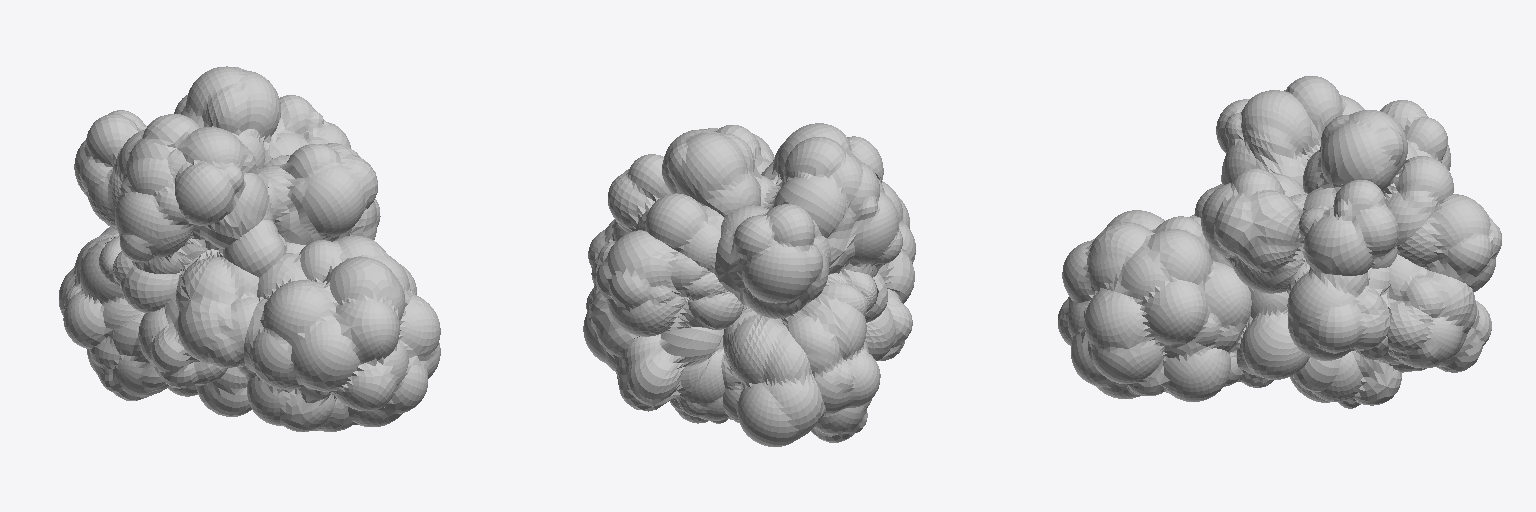
Rendered from explosion4.obj.
3 views of the same model, side by side, from view 1: azimuth 30°, elevation 25°; view 2: azimuth 150°, elevation 25°; view 3: azimuth 270°, elevation 25° (orthographic).
Visible parts, largest first — view 1: Explosion_blast_2_mesh_fire_smoke_m, Explosion_blast_1_mesh_fire_smoke_m; view 2: Explosion_blast_2_mesh_fire_smoke_m, Explosion_blast_1_mesh_fire_smoke_m; view 3: Explosion_blast_2_mesh_fire_smoke_m, Explosion_blast_1_mesh_fire_smoke_m.
Boxes of the visible parts, x1,y1,x2,y2 form: Explosion_blast_2_mesh_fire_smoke_m: [59, 66, 380, 416]; Explosion_blast_1_mesh_fire_smoke_m: [237, 235, 440, 431]; Explosion_blast_2_mesh_fire_smoke_m: [583, 123, 914, 446]; Explosion_blast_1_mesh_fire_smoke_m: [882, 181, 915, 263]; Explosion_blast_2_mesh_fire_smoke_m: [1192, 76, 1501, 408]; Explosion_blast_1_mesh_fire_smoke_m: [1058, 210, 1251, 401].
Bounding box in the file's own units: 3.7 × 3.57 × 4.81.